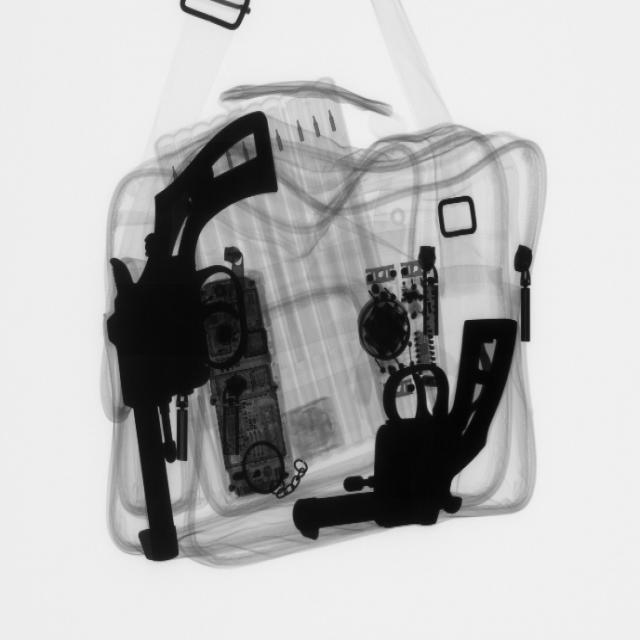GUN: (93, 110, 259, 570), (304, 301, 525, 542)
